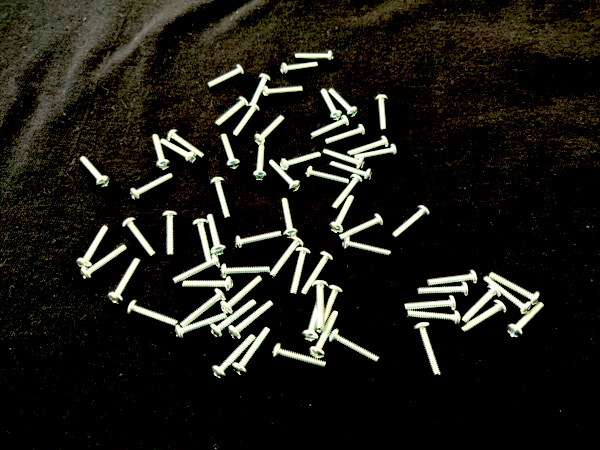longscrew: (211, 333, 257, 382), (231, 327, 272, 377), (483, 276, 532, 317), (328, 328, 382, 365), (228, 300, 276, 341), (210, 299, 257, 340), (180, 288, 228, 328), (80, 244, 127, 283), (489, 272, 541, 306), (461, 299, 508, 336), (220, 276, 264, 315), (413, 321, 443, 377), (108, 258, 143, 305), (461, 285, 502, 325), (172, 253, 223, 285), (174, 312, 227, 342), (272, 342, 328, 370), (506, 302, 547, 340), (269, 236, 305, 279), (300, 251, 334, 296), (309, 311, 340, 360), (76, 226, 109, 270), (122, 218, 158, 258), (126, 300, 179, 327), (316, 284, 344, 334), (391, 205, 431, 240), (130, 173, 173, 203), (331, 173, 364, 211), (166, 129, 206, 160), (340, 213, 384, 241), (214, 96, 250, 129), (269, 159, 302, 193), (328, 195, 356, 235), (342, 236, 392, 258), (290, 247, 312, 296), (79, 156, 111, 189), (235, 230, 283, 252), (309, 115, 351, 140), (232, 103, 261, 139), (192, 218, 214, 265), (347, 135, 390, 159), (406, 310, 462, 328), (206, 64, 244, 90), (159, 138, 197, 164), (210, 177, 233, 219), (328, 87, 359, 118), (254, 115, 285, 146), (182, 276, 235, 294), (330, 161, 373, 183), (325, 123, 366, 146), (302, 299, 323, 343), (416, 282, 470, 299), (323, 148, 366, 169), (206, 214, 227, 257), (404, 295, 457, 312), (220, 263, 271, 280), (311, 280, 328, 331), (280, 152, 323, 172), (305, 166, 350, 185), (162, 211, 180, 258), (427, 270, 479, 286), (281, 198, 300, 240), (249, 73, 272, 106), (220, 134, 241, 170), (321, 88, 343, 121), (354, 144, 398, 160), (152, 134, 171, 171), (375, 93, 390, 133), (280, 61, 319, 76), (263, 85, 304, 99), (252, 145, 267, 182), (295, 50, 335, 63)
